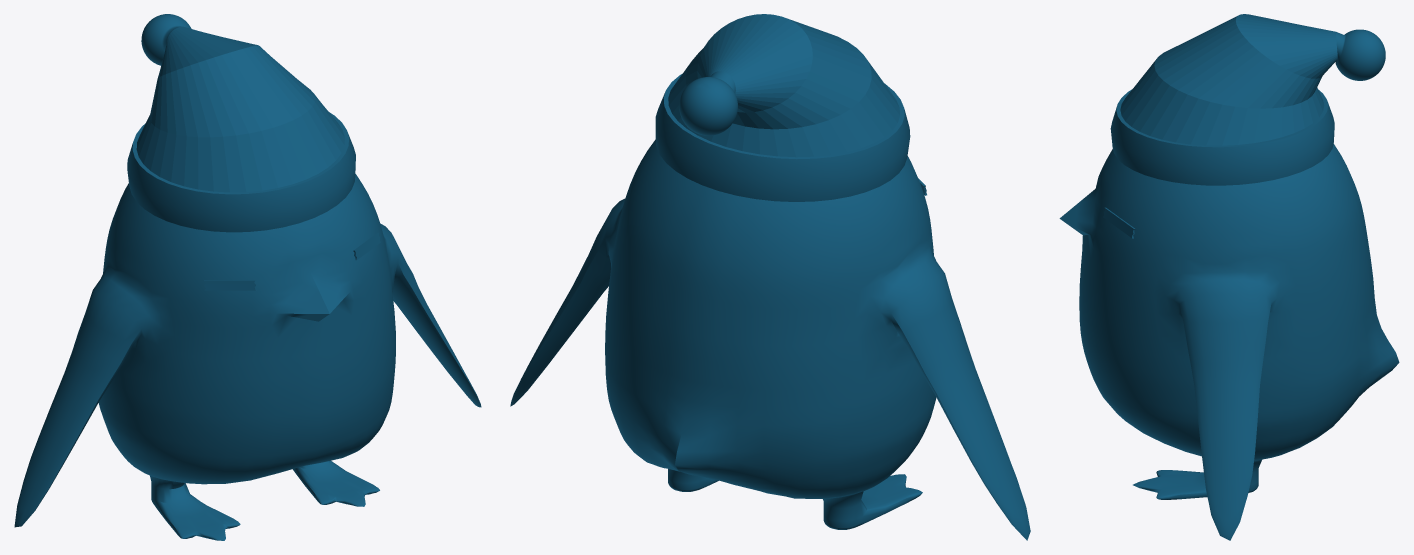
File: penguin_blue_idle_20f.fbx
3 views of the same model, side by side, from view 1: azimuth 30°, elevation 25°; view 2: azimuth 150°, elevation 25°; view 3: azimuth 270°, elevation 25° (orthographic). The views are drawn at different scales.
Parts seen in each view (by area): view 1: ppp_20, bousi, ai; view 2: ppp_20, bousi; view 3: ppp_20, bousi.
Boxes of the visible parts, bbox=[...] form: ppp_20: bbox=[14, 174, 481, 540]; bousi: bbox=[127, 14, 355, 232]; ai: bbox=[204, 232, 380, 290]; ppp_20: bbox=[510, 139, 1030, 540]; bousi: bbox=[655, 14, 910, 201]; ppp_20: bbox=[1059, 144, 1399, 540]; bousi: bbox=[1110, 14, 1385, 185].
Bounding box in the file's own units: 22.26 × 20.11 × 14.46.
Materials: 1 (1 with a texture image).
